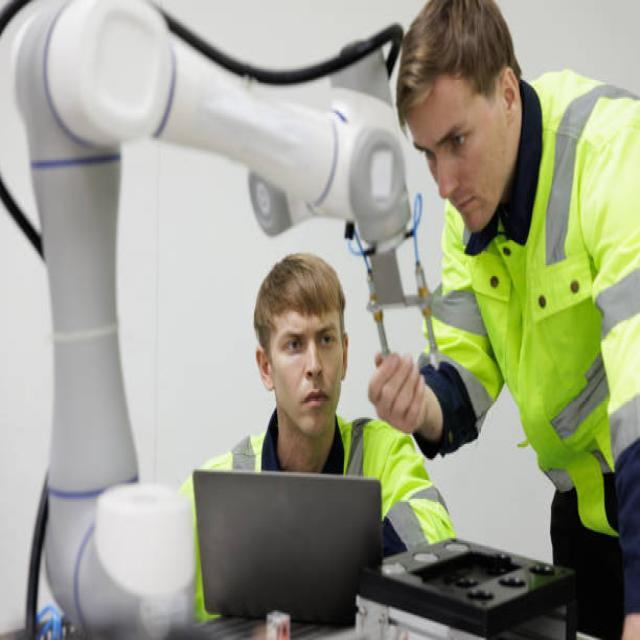Robotic-arm: (10, 1, 414, 640)
